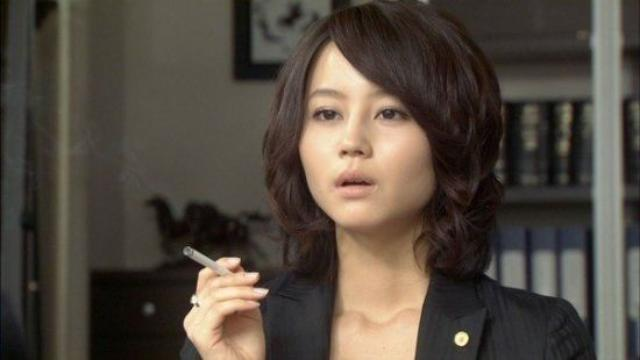SafeDriving: (366, 92, 416, 131), (305, 92, 350, 129)
Smoking: (180, 243, 234, 277)
